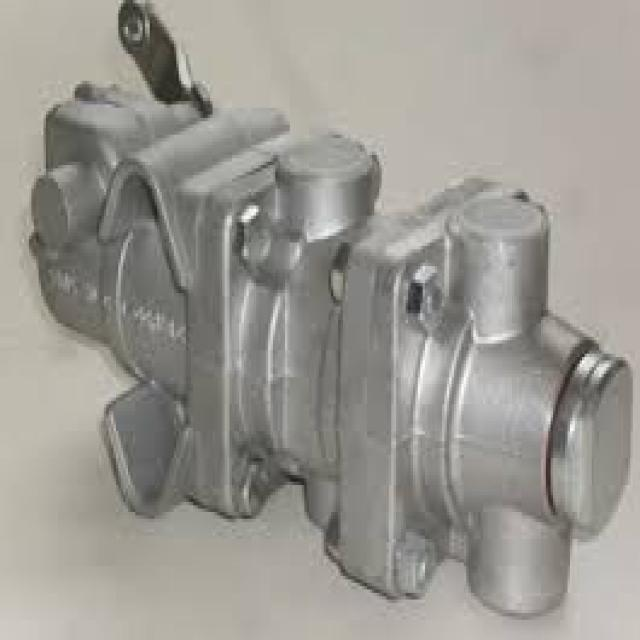video_frame: (22, 0, 635, 613)
